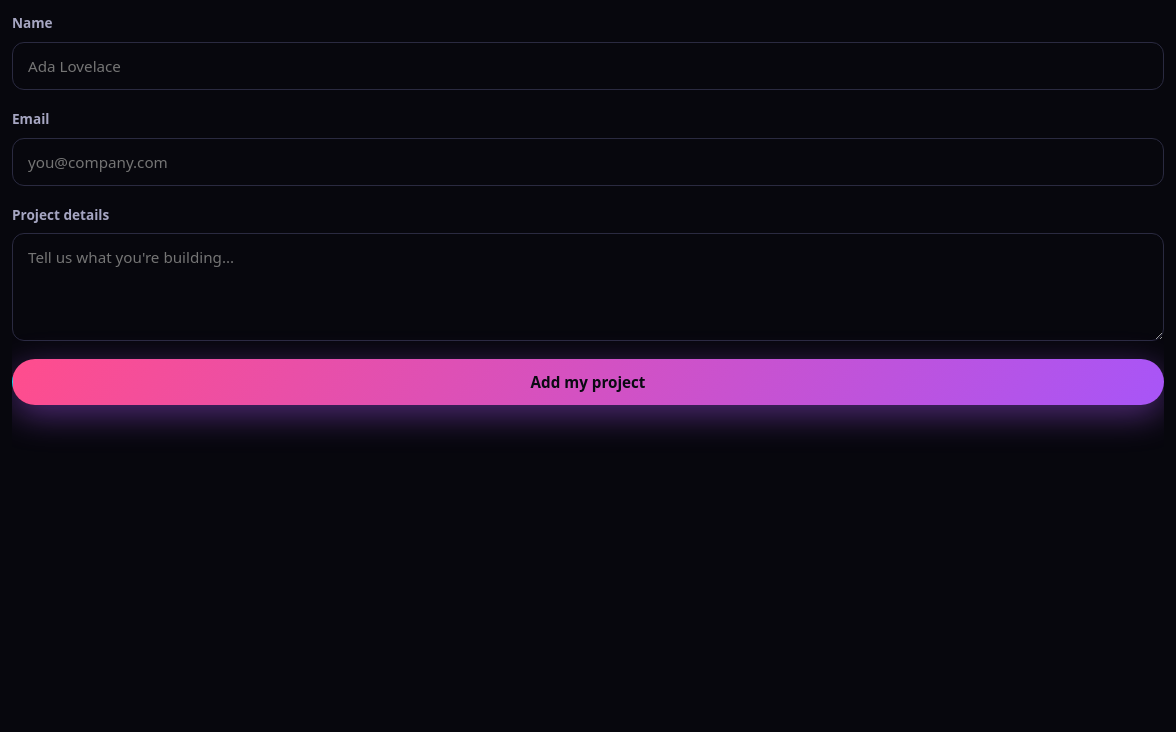
Test case: ContactForm › shows validation errors when submitting an empty form
Click the button "Add my project".
click(588, 382)  # box 12,359 -> 1164,405
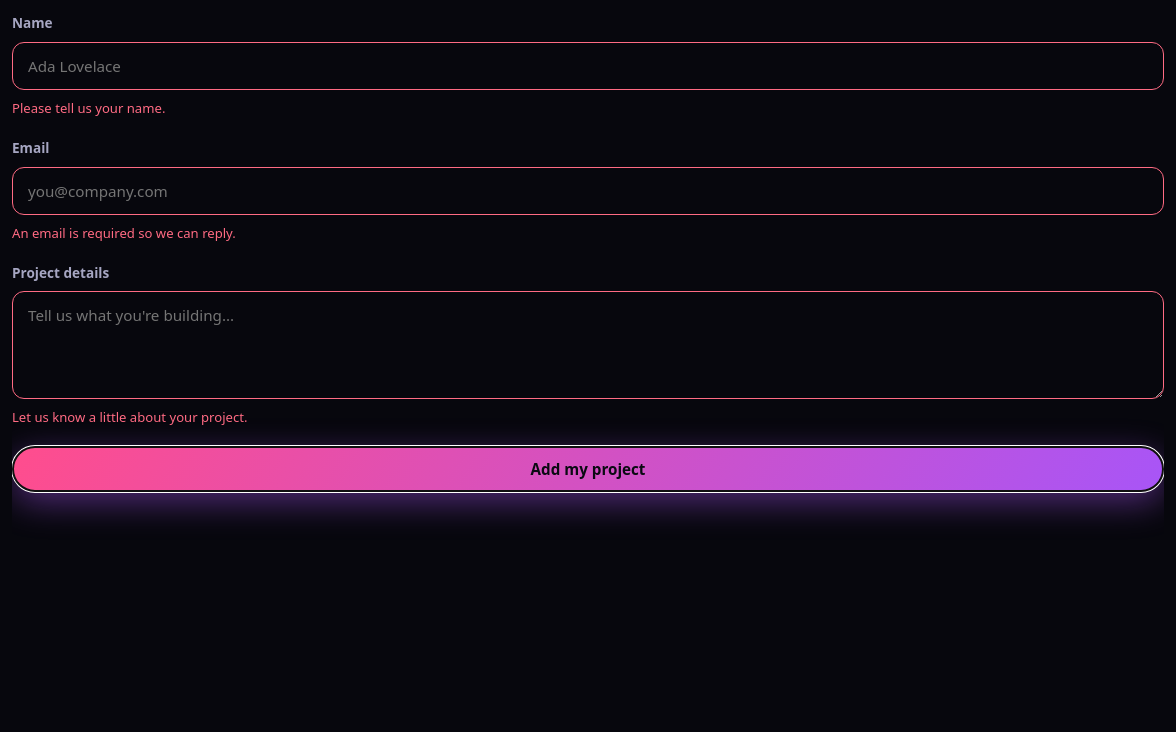
Result: the text "Please tell us your name." is shown at 12,99 -> 165,117
Result: the text "An email is required so we can reply." is shown at 12,224 -> 236,242
Result: the text "Let us know a little about your project." is shown at 12,408 -> 248,426
